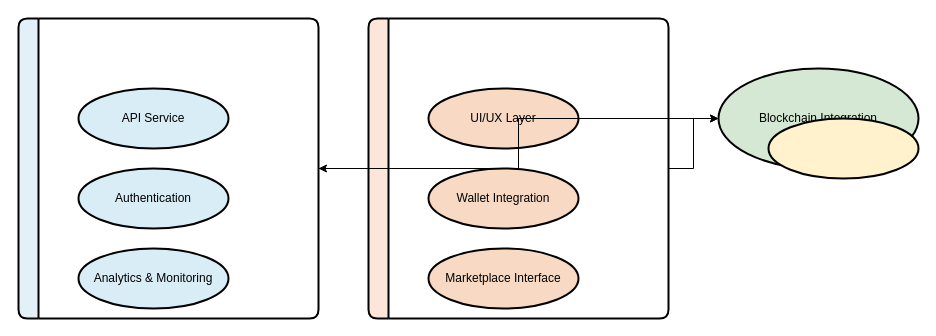
The diagram is 936 pixels wide and 336 high, and some of its shapes have lost their labels. The shapes that lost their labels are listed below. From the top down, each one's box as (x1, y1, x2, y2) in pixels, then its label:
(17, 17, 319, 319): RYTU Backend
(367, 17, 669, 319): RYTU Frontend
(767, 117, 919, 179): RYTU Contract
